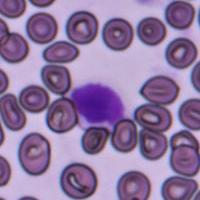M: (68, 77, 128, 127)
